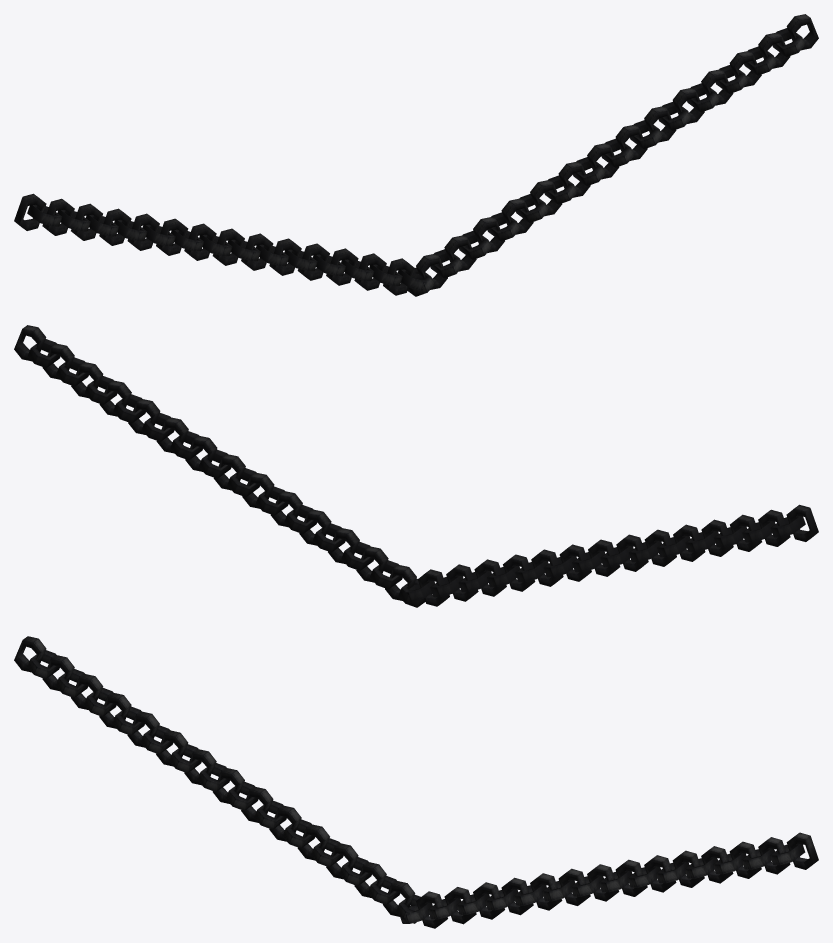
The model's file is Chain.fbx.
3 renders of one model, top to bottom at view 1: azimuth 30°, elevation 25°; view 2: azimuth 150°, elevation 25°; view 3: azimuth 330°, elevation 25°, orthographic.
Parts seen in each view (by area): view 1: Chain_low005__13_, Chain_low005__14_, Chain_low005__15_, Chain_low005__16_; view 2: Chain_low005__13_, Chain_low005__14_, Chain_low005__15_, Chain_low005__16_; view 3: Chain_low005__14_, Chain_low005__13_, Chain_low005__16_, Chain_low005__15_.
Boxes of the visible parts, x1,y1,x2,y2 form: Chain_low005__13_: (14, 193, 415, 295); Chain_low005__14_: (416, 14, 818, 289); Chain_low005__15_: (401, 28, 805, 296); Chain_low005__16_: (27, 204, 426, 291); Chain_low005__13_: (417, 504, 818, 606); Chain_low005__14_: (14, 325, 416, 600); Chain_low005__15_: (27, 339, 431, 607); Chain_low005__16_: (406, 515, 805, 602); Chain_low005__14_: (416, 832, 818, 928); Chain_low005__13_: (14, 636, 415, 916); Chain_low005__16_: (27, 650, 420, 923); Chain_low005__15_: (400, 843, 805, 923).
Size of the model in its own units: 2808 by 632 by 111.
Materials: 1 (1 with a texture image).
